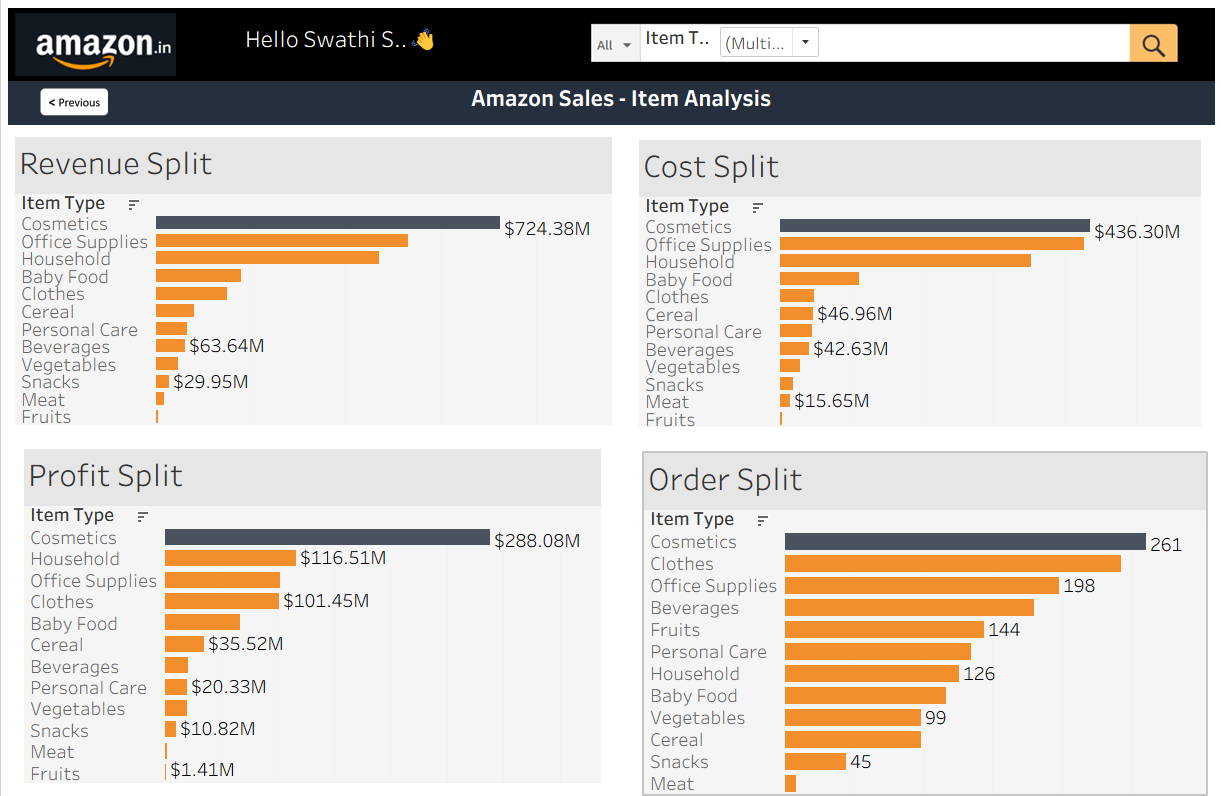

The page's visual inventory and layout, read from the dashboard file:
{"tool":"tableau","page":{"name":"Item Analysis","canvas":[1000,1000],"units":"permille","ordinal":1},"visuals":[{"type":"blank","box":[5.7,11.2,989.3,92.9]},{"type":"image","param":"C:/Users/krizzy/Downloads/Picture3.png","box":[11.5,17.4,133.6,78.1]},{"type":"image","param":"C:/Users/krizzy/Downloads/Picture5.png","box":[483.6,29.7,508.2,48.3]},{"type":"text","box":[196.7,31,163.9,34.7]},{"type":"filter","title":"Profit Split","param":"[federated.0j6tzmw1khj7zt10p46t90oay7c3].[none:Item Type:nk]","box":[527.9,34.7,145.1,37.2]},{"type":"blank","box":[5.7,101.6,989.3,54.5]},{"type":"text","box":[382,105.3,350,32.2]},{"type":"dashboard-object","box":[7.4,110.3,104.9,37.2]},{"type":"worksheet","title":"Revenue Split","mark":"Automatic","rows":["Item Type"],"cols":["Total Revenue"],"box":[11.5,171,489.3,356.9]},{"type":"worksheet","title":"Cost Split","mark":"Automatic","rows":["Item Type"],"cols":["Total Cost"],"box":[523,174.7,460.7,355.6]},{"type":"worksheet","title":"Profit Split","mark":"Automatic","rows":["Item Type"],"cols":["Calculation_1030570456592384"],"box":[18.9,557.6,472.9,413.9]},{"type":"worksheet","title":"Profit Split (2)","mark":"Automatic","rows":["Item Type"],"cols":["Calculation_1030570458861569"],"box":[527,562.6,460.7,422.6]}]}

Visuals, with their boxes on the dashboard's canvas, which has no fixed pixel size, in thousandths of its width and height (x1, y1, x2, y2). These are canvas units, not pixel positions in the 1221x796 screenshot, which may show the page scaled, cropped or inside an application window:
blank: left=6, top=11, right=995, bottom=104
image: left=12, top=17, right=145, bottom=96
image: left=484, top=30, right=992, bottom=78
text: left=197, top=31, right=361, bottom=66
"Profit Split" filter: left=528, top=35, right=673, bottom=72
blank: left=6, top=102, right=995, bottom=156
text: left=382, top=105, right=732, bottom=138
dashboard-object: left=7, top=110, right=112, bottom=148
"Revenue Split" worksheet: left=12, top=171, right=501, bottom=528
"Cost Split" worksheet: left=523, top=175, right=984, bottom=530
"Profit Split" worksheet: left=19, top=558, right=492, bottom=972
"Profit Split (2)" worksheet: left=527, top=563, right=988, bottom=985
